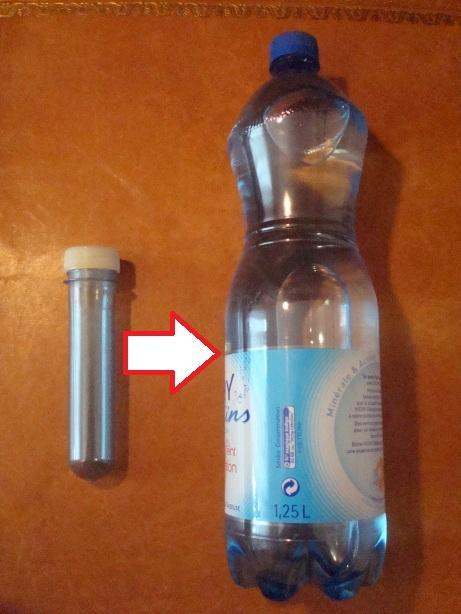bottle: (209, 12, 406, 612)
